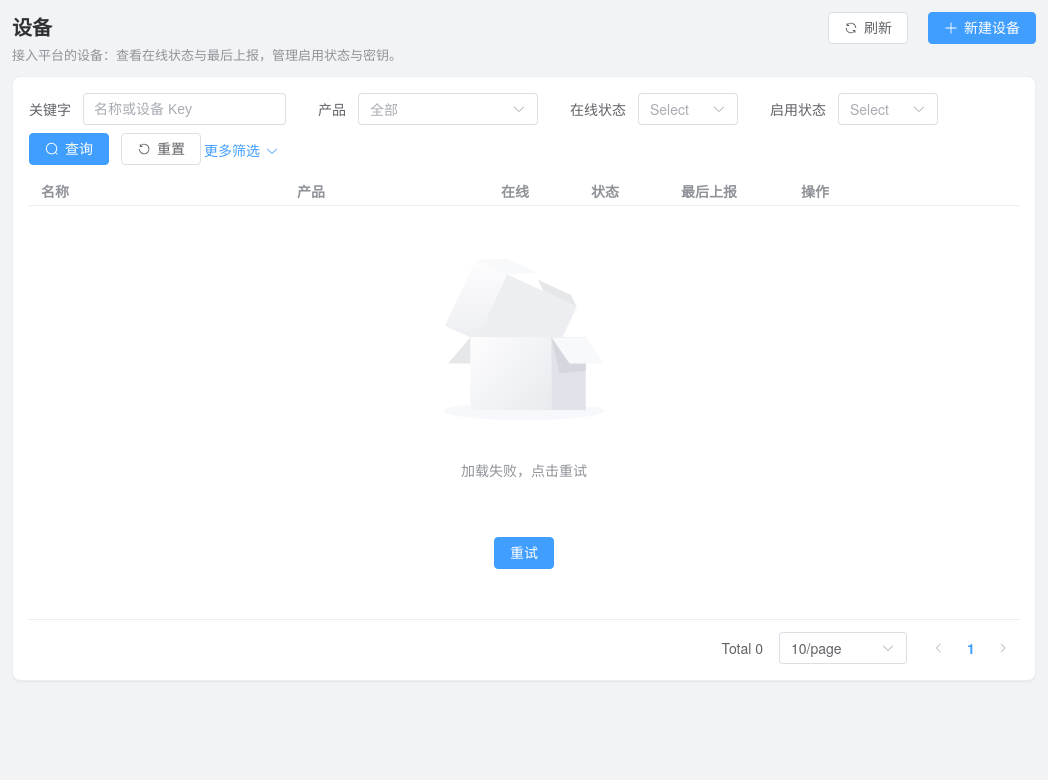
Test: DevicesView › shows a retryable failure state instead of the create guide when the first load fails
Expected: the element showing "加载失败，点击重试 重试" is shown, [444, 246, 604, 568]
Click the button "重试": [524, 552] box [494, 536, 554, 568]
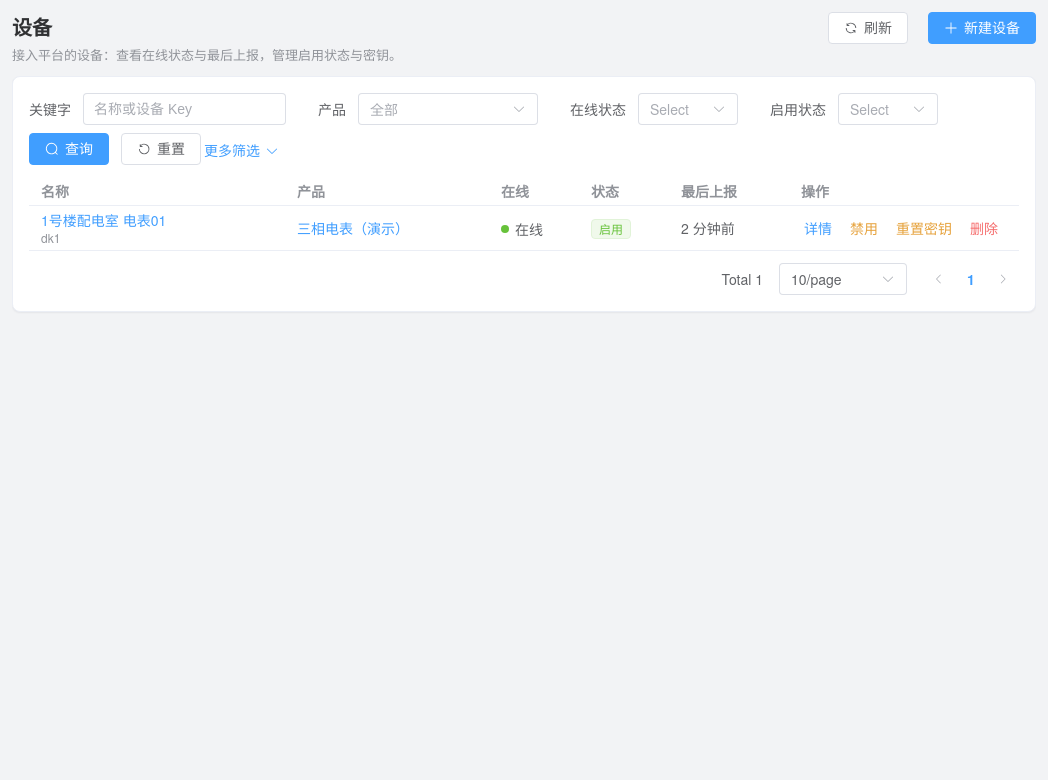
Now the element that starts with "最后上报" shows "1号楼配电室 电表01", box [41, 210, 166, 230]
